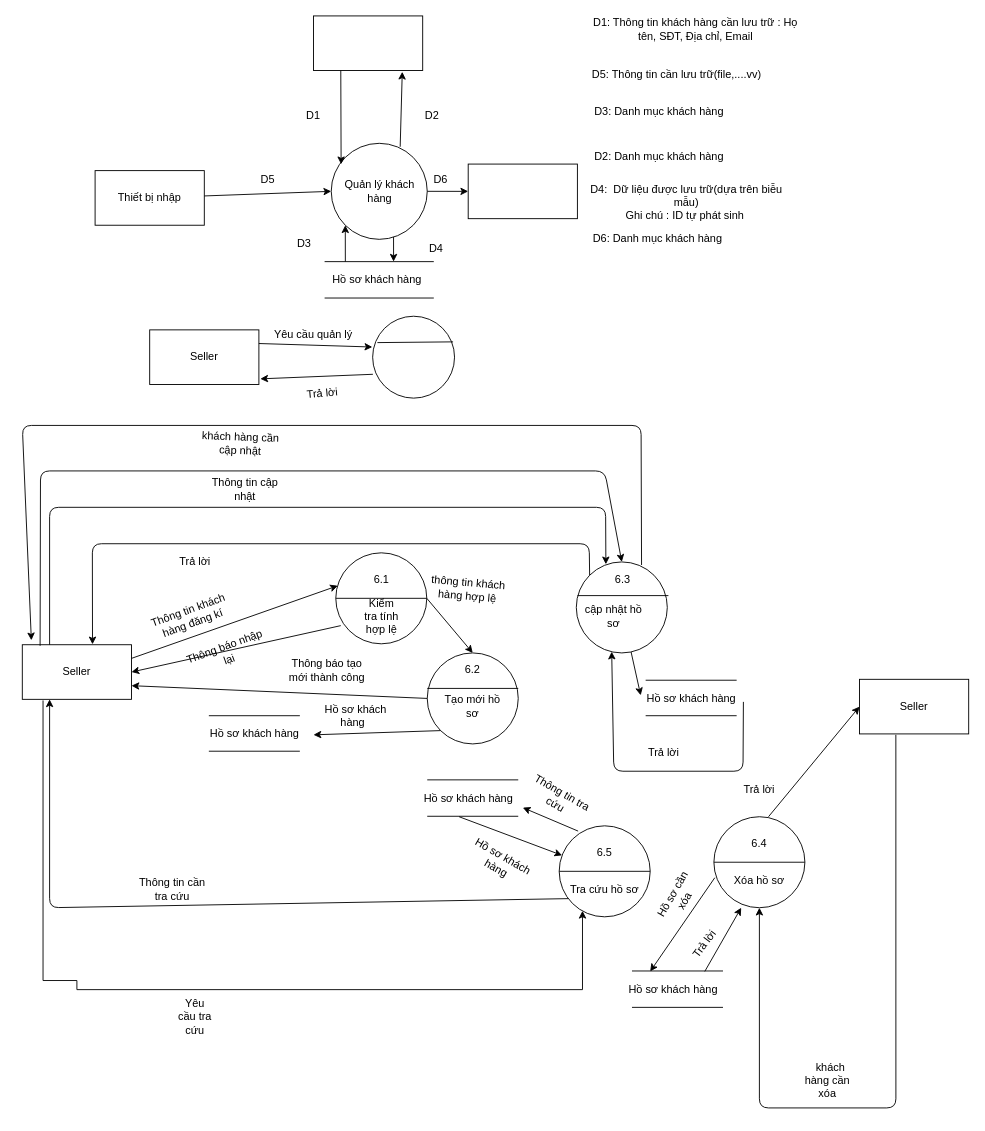
The diagram is 985 pixels wide and 1131 high, and some of its shapes have lost their labels. Each missing label, with the centre of its shape:
Máy in: pixel 522 191
Người dùng: pixel 368 43
Quan ly khach hang: pixel 413 356
